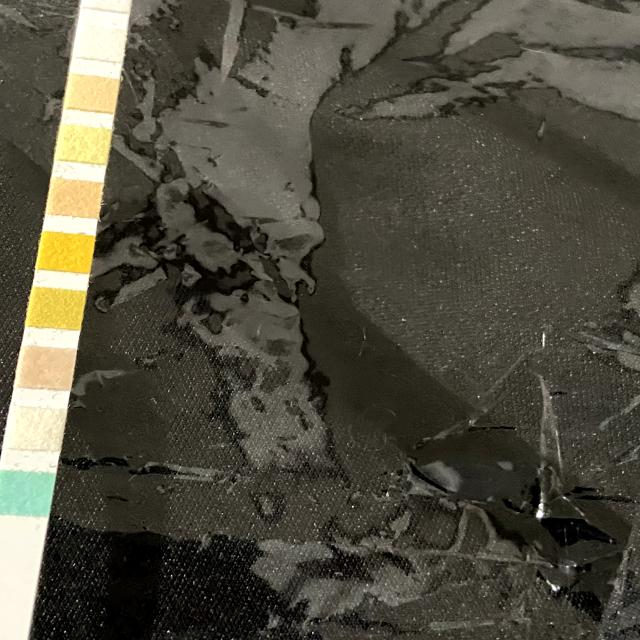Bilirubin: (11, 409, 60, 448)
Blood: (42, 237, 90, 269)
Glucose: (0, 473, 49, 513)
Ketone: (22, 349, 70, 386)
Leukocytes: (70, 78, 115, 109), (84, 0, 129, 7)
Nitrite: (77, 29, 124, 56)
Protein: (59, 131, 108, 161)
SpGravity: (32, 291, 83, 325)
pH: (51, 183, 99, 214)
